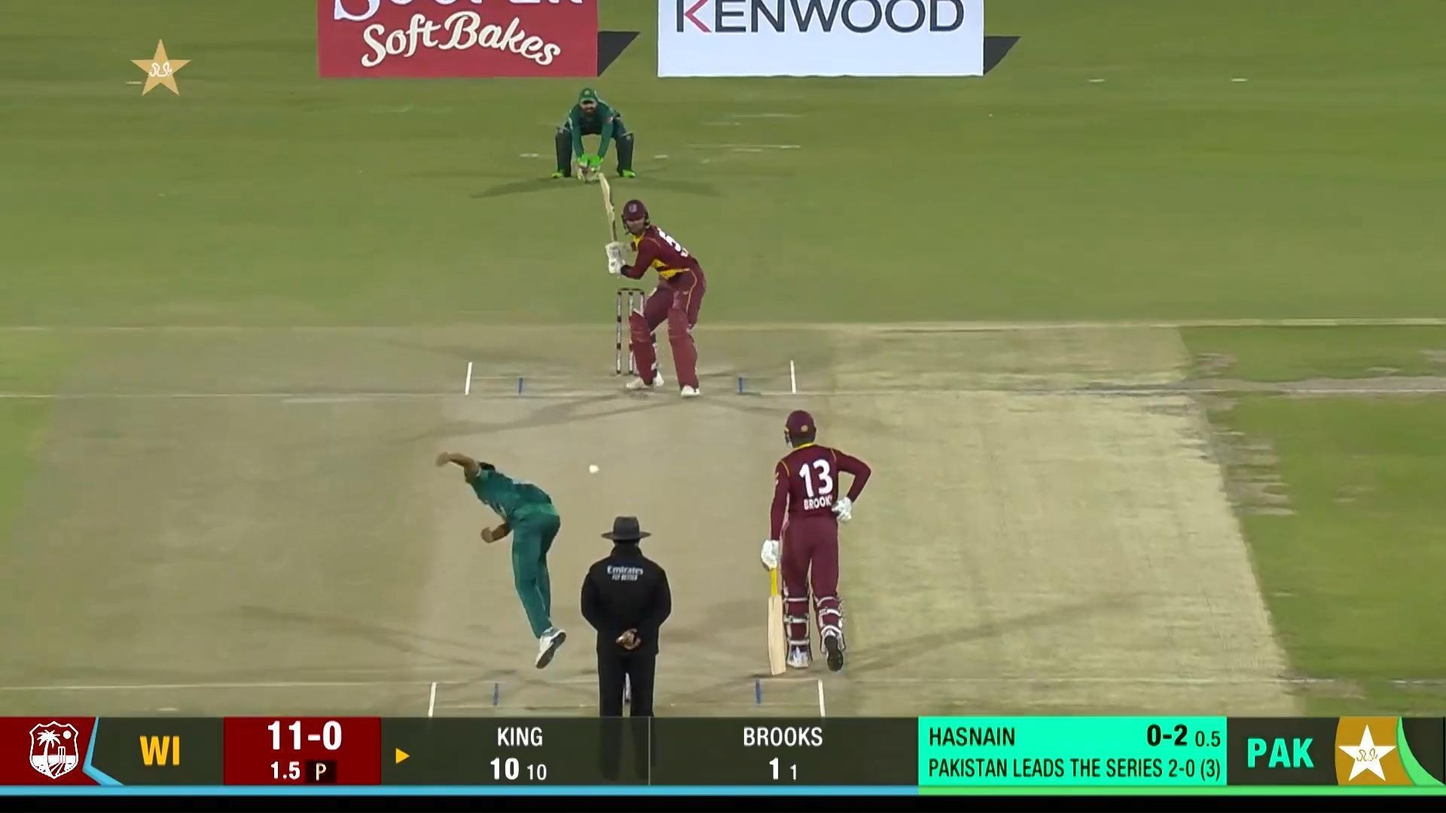BM 1: (599, 174, 708, 399)
BO: (435, 449, 568, 669)
